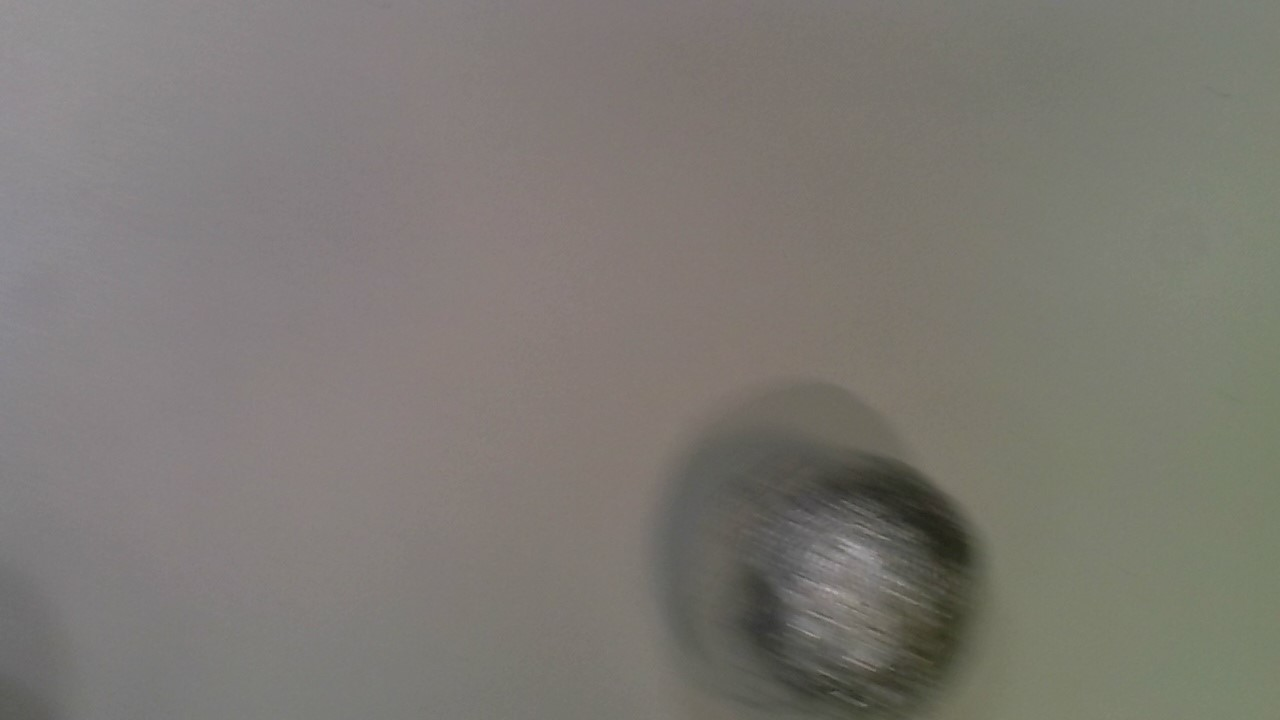silver_ball: (685, 440, 992, 720)
